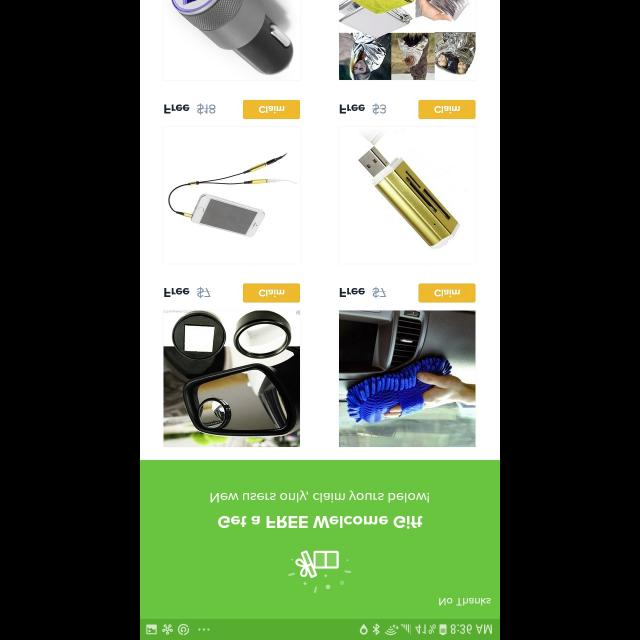image: (338, 127, 476, 266), (163, 126, 301, 264), (164, 309, 300, 446), (339, 310, 475, 446), (162, 0, 302, 81), (339, 0, 476, 80), (288, 550, 352, 594)
text: (210, 490, 430, 502), (218, 516, 422, 528), (164, 103, 216, 115), (164, 286, 212, 298), (339, 286, 386, 298), (339, 103, 386, 115), (439, 598, 491, 606)
textbutton: (418, 100, 476, 120), (418, 284, 476, 302), (243, 284, 300, 302), (243, 100, 300, 118)
uppertaskbar: (140, 618, 500, 640)
